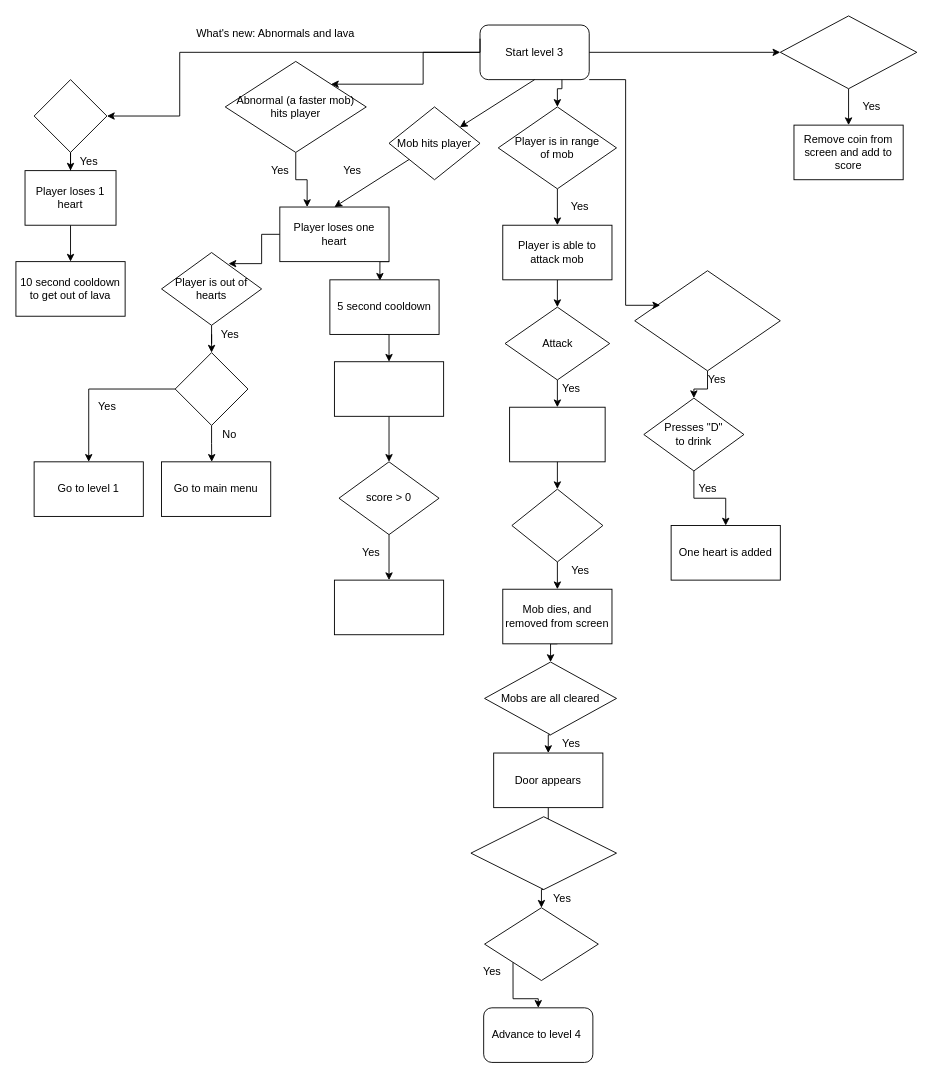
Some shapes in this 933 by 1078 pixel diagram are drawn without their labels. Each missing label, with the box of its shape:
Make score = 0: (334, 579, 444, 635)
Mob health <= 0?: (511, 488, 603, 562)
Mob's health goes down: (509, 406, 605, 462)
Play again?: (174, 352, 248, 425)
Player collides with coin: (779, 15, 917, 89)
Player is infront of door: (470, 816, 617, 890)
Player is infront of health potion: (634, 270, 780, 371)
Player touches lava block: (33, 79, 107, 152)
Presses "A" to advance: (484, 907, 598, 981)
Remove 10 points from score: (334, 361, 444, 416)
